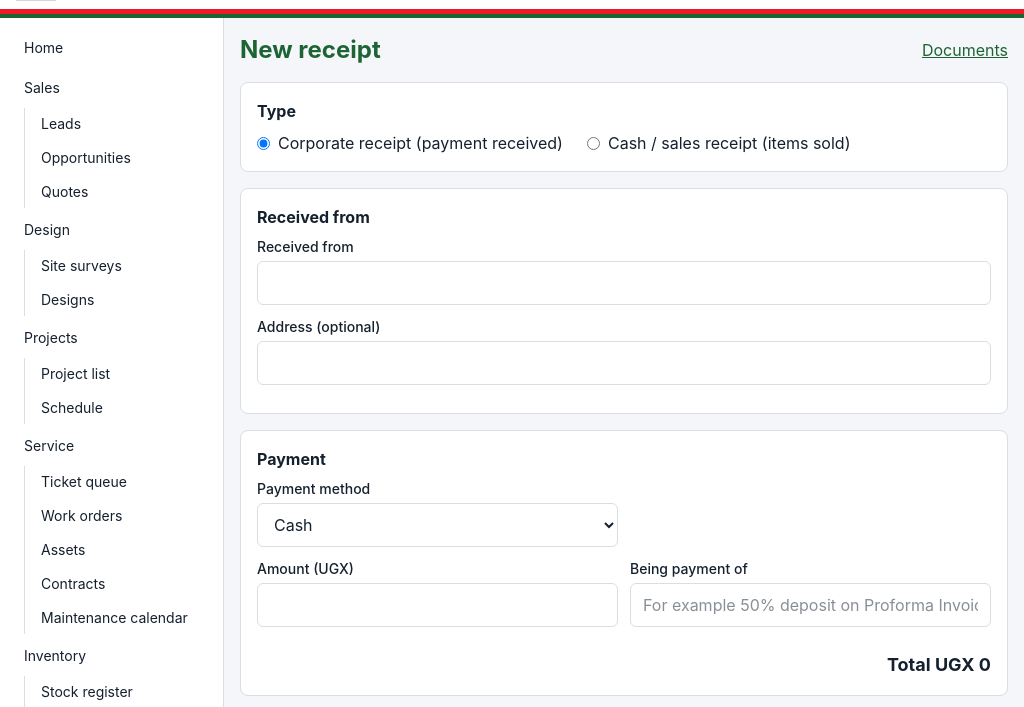
it: receipts › requires an amount and, for cheques, the cheque number
This screenshot has width=1024, height=707.
Type "Green School" into the field labelled "Received from". click: (624, 283)
box: [257,261,991,305]
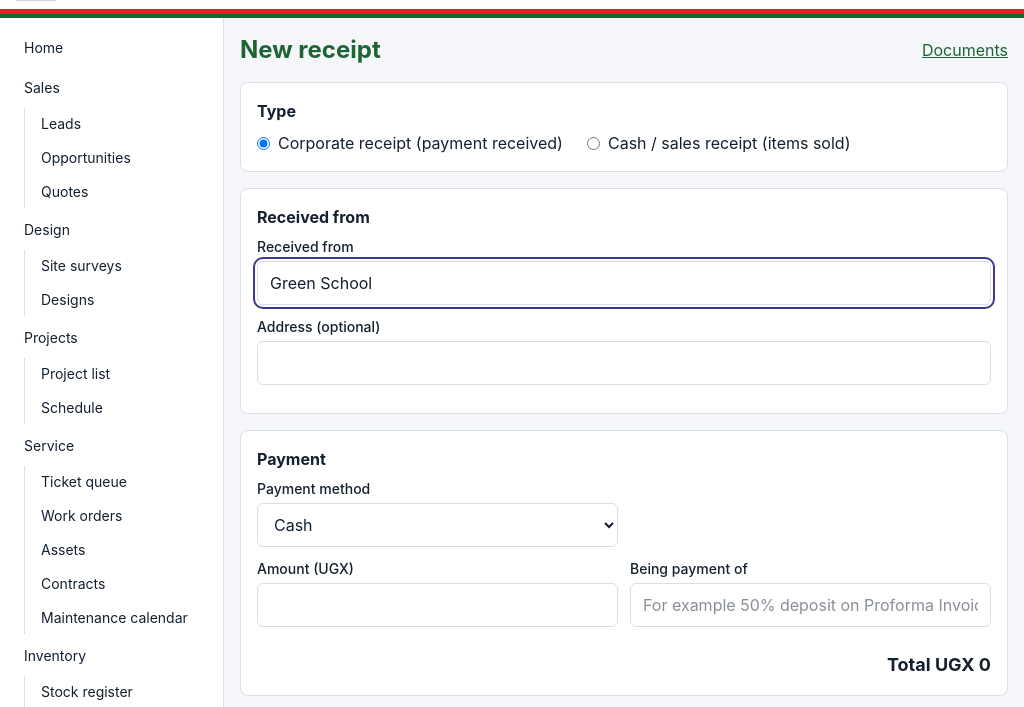
Select "Cheque" in the dropdown labelled "Payment method". click: (438, 525)
box: [257,503,618,547]
(page scrolled)
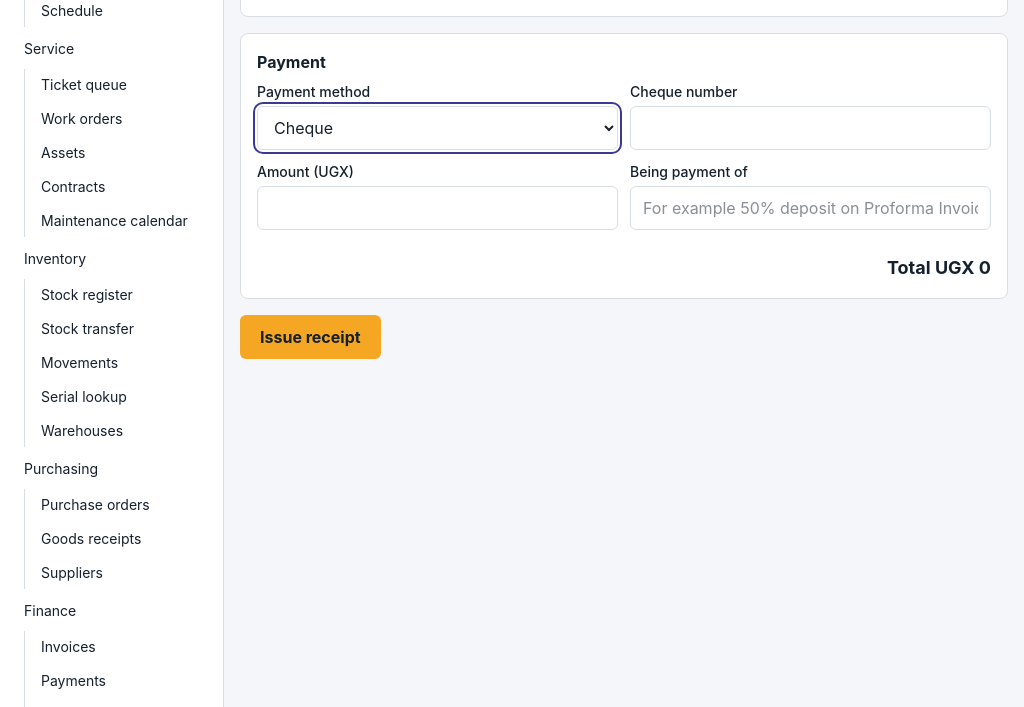
Click the button "Issue receipt". click: (310, 337)
box: [240,315,381,359]
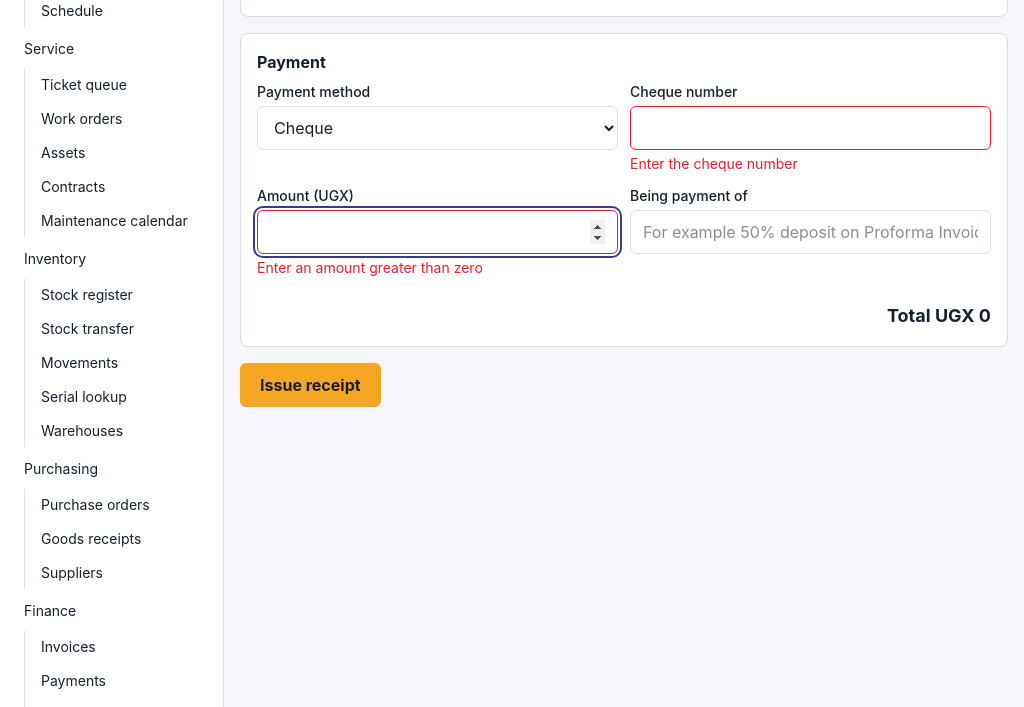
Now the text "Enter the cheque number" is shown, box [630,155,798,172]
Now the text "Enter an amount greater than zero" is shown, box [257,259,483,276]
